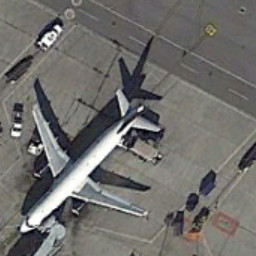Airplane: (15, 82, 167, 238)
